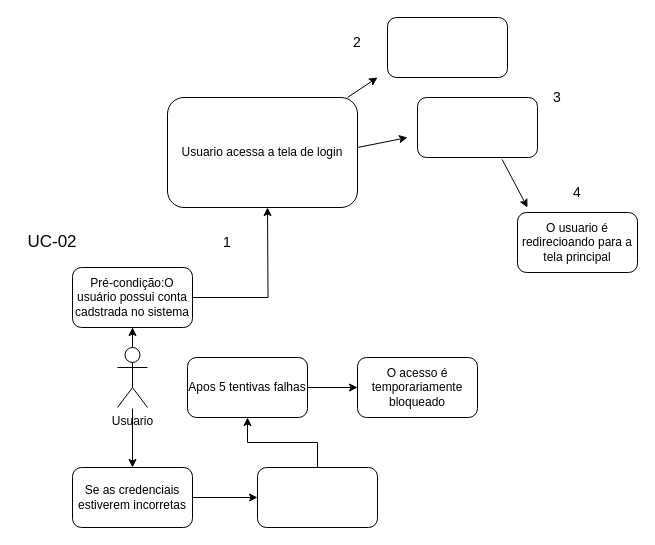
The diagram is 655 pixels wide and 545 high, and some of its shapes have lost their labels. The centre of each missing label's shape, as x and y in pixels:
"Informar o E-mail e senha" goes at (x=447, y=47).
"O sistema exbie uma mensagem de erro" goes at (x=317, y=497).
"Sistema valida as credenciais" goes at (x=477, y=127).
